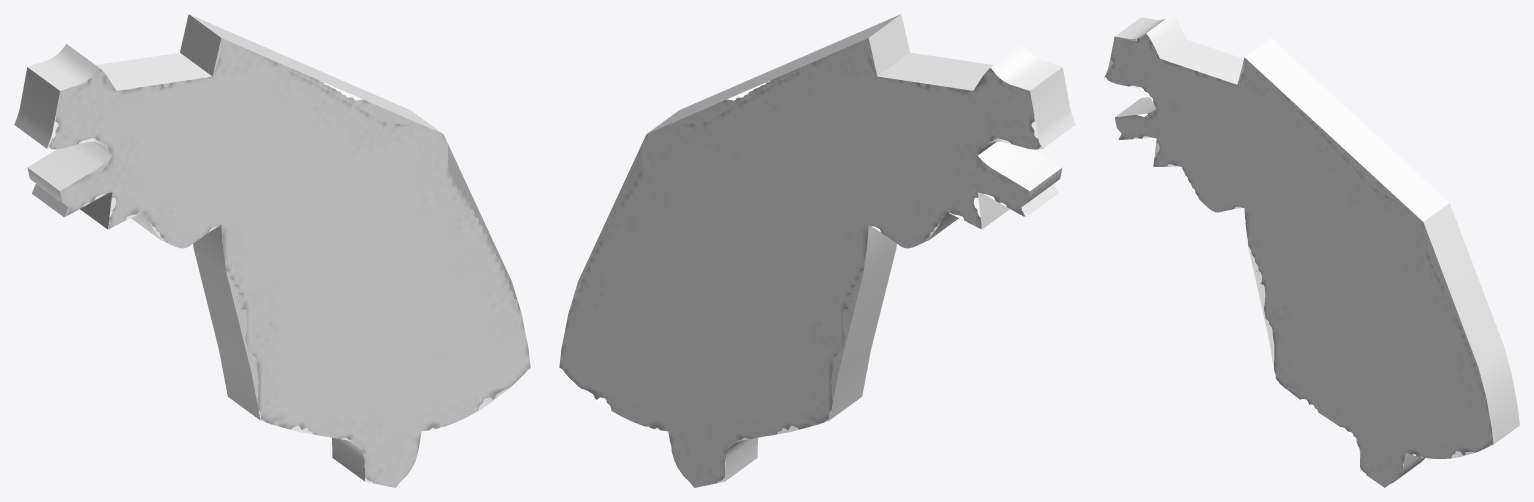
Rendered from Marche.obj.
3 renders of one model, left to right at view 1: azimuth 30°, elevation 25°; view 2: azimuth 150°, elevation 25°; view 3: azimuth 330°, elevation 25°, orthographic. The views are drawn at different scales.
Size of the model in its own units: 111 by 108 by 13.
Materials: 3 (3 with a texture image).
